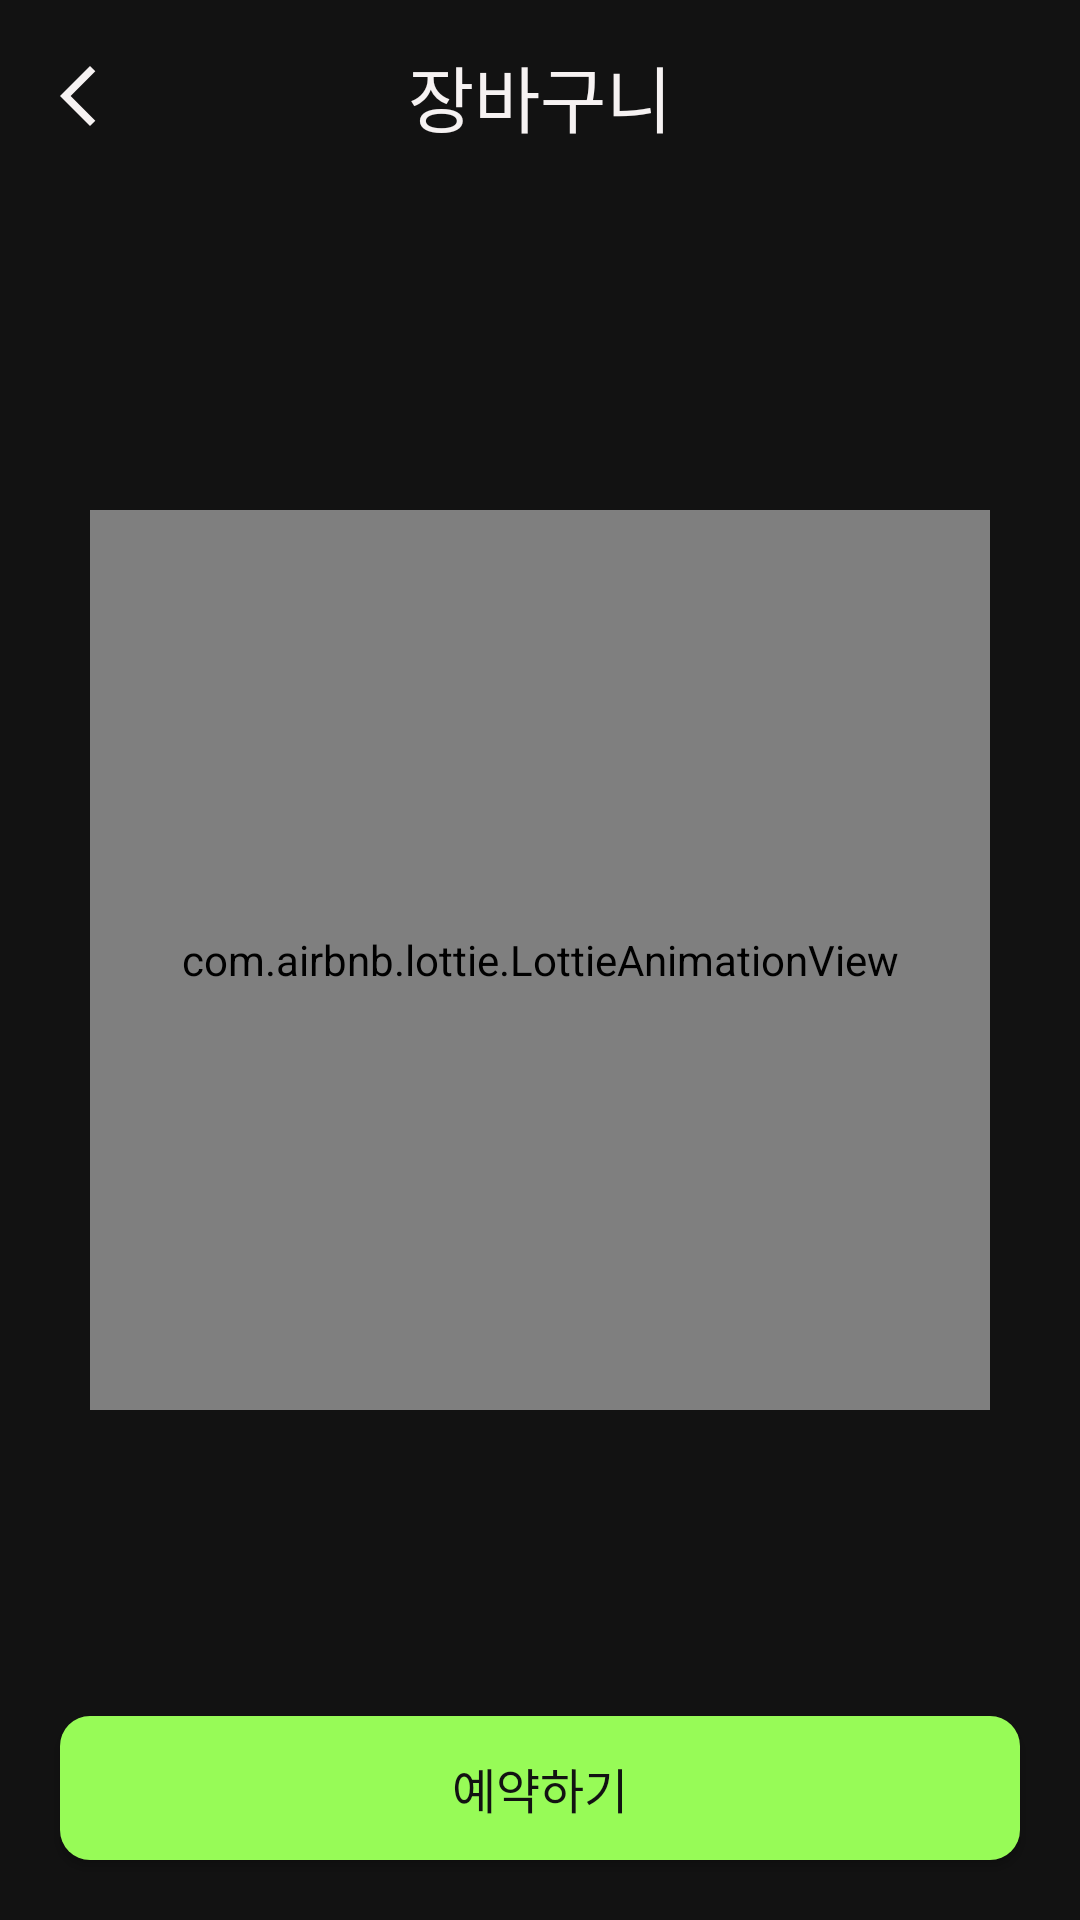

Screen size 1080x1920. Icon name, then its center in pixels as (x,y):
back: (77,96)
